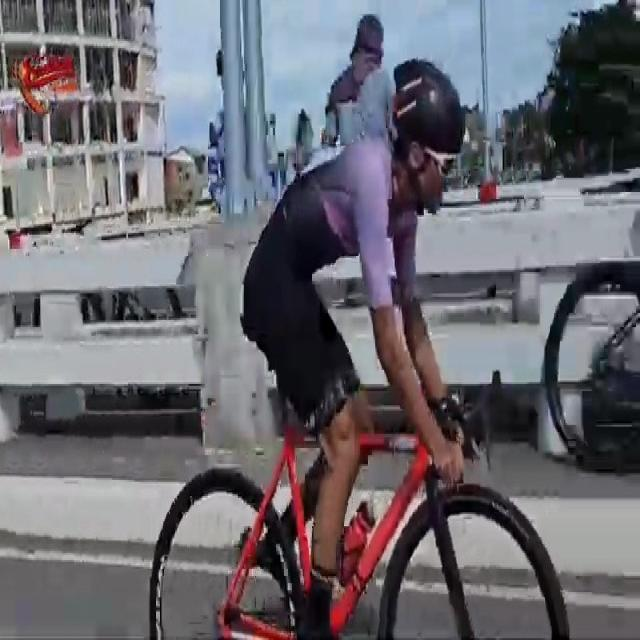bike: (151, 53, 573, 640), (544, 250, 640, 476)
